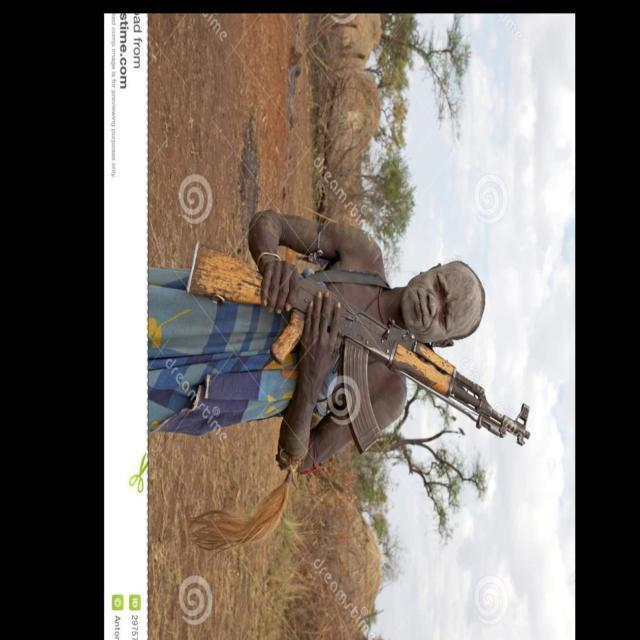Rifle: (186, 238, 532, 448)
